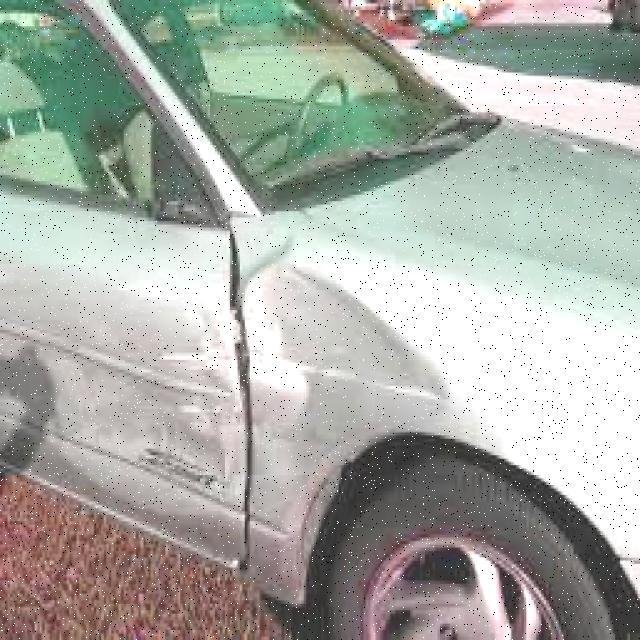car damage: (58, 220, 454, 531)
